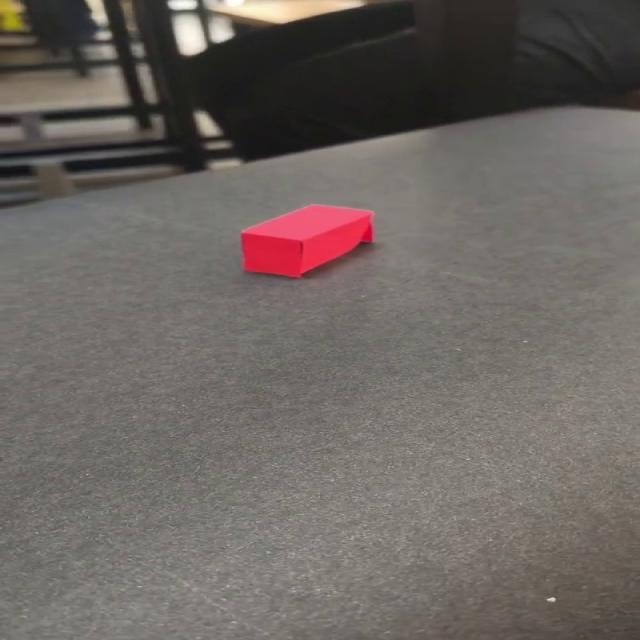red block: (238, 203, 374, 278)
